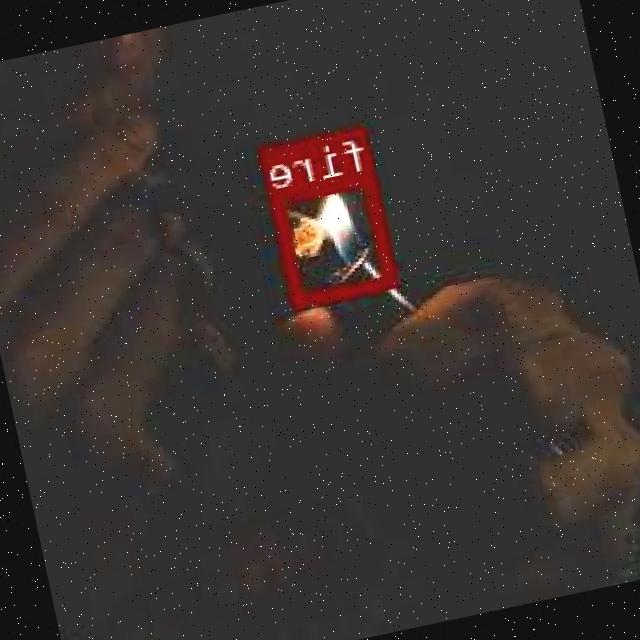fire: (273, 168, 400, 305)
